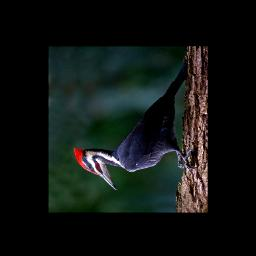Woodpecker: (74, 48, 199, 190)
